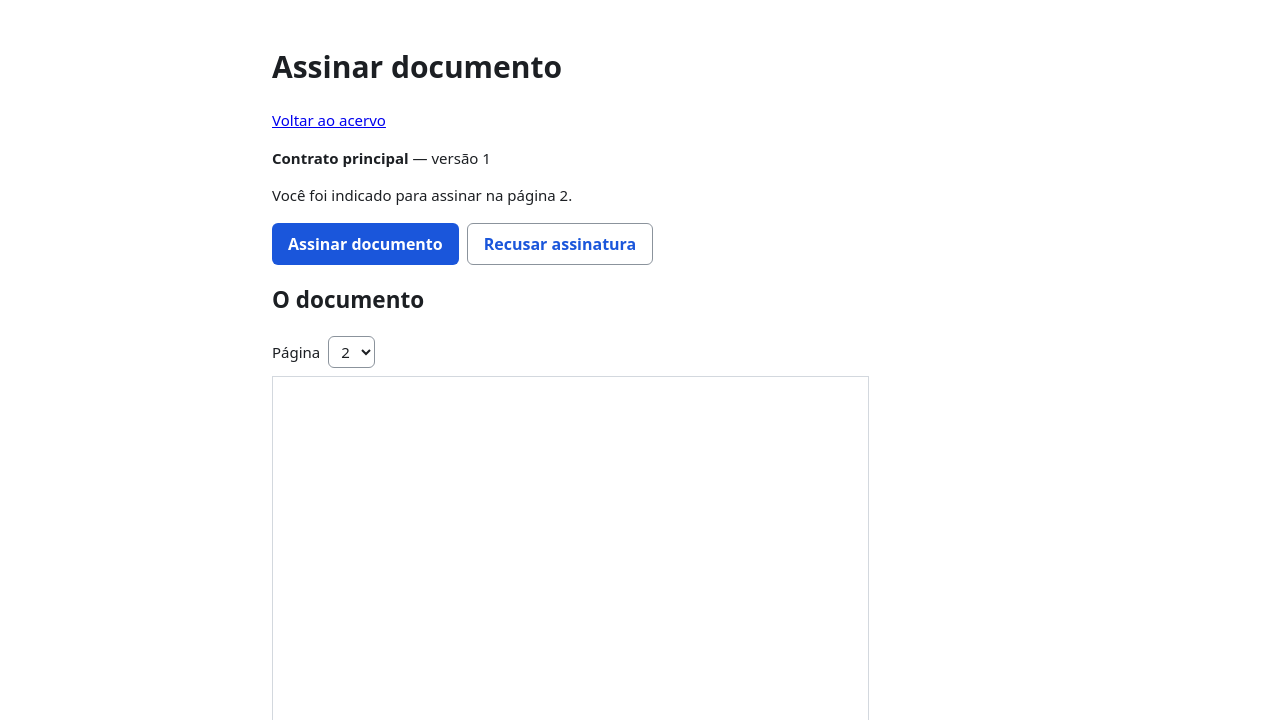
Test: assinar › com a senha errada mantem a pendencia e mostra erro acionavel
Click the button "Assinar documento": click(365, 244) [272,223,459,265]
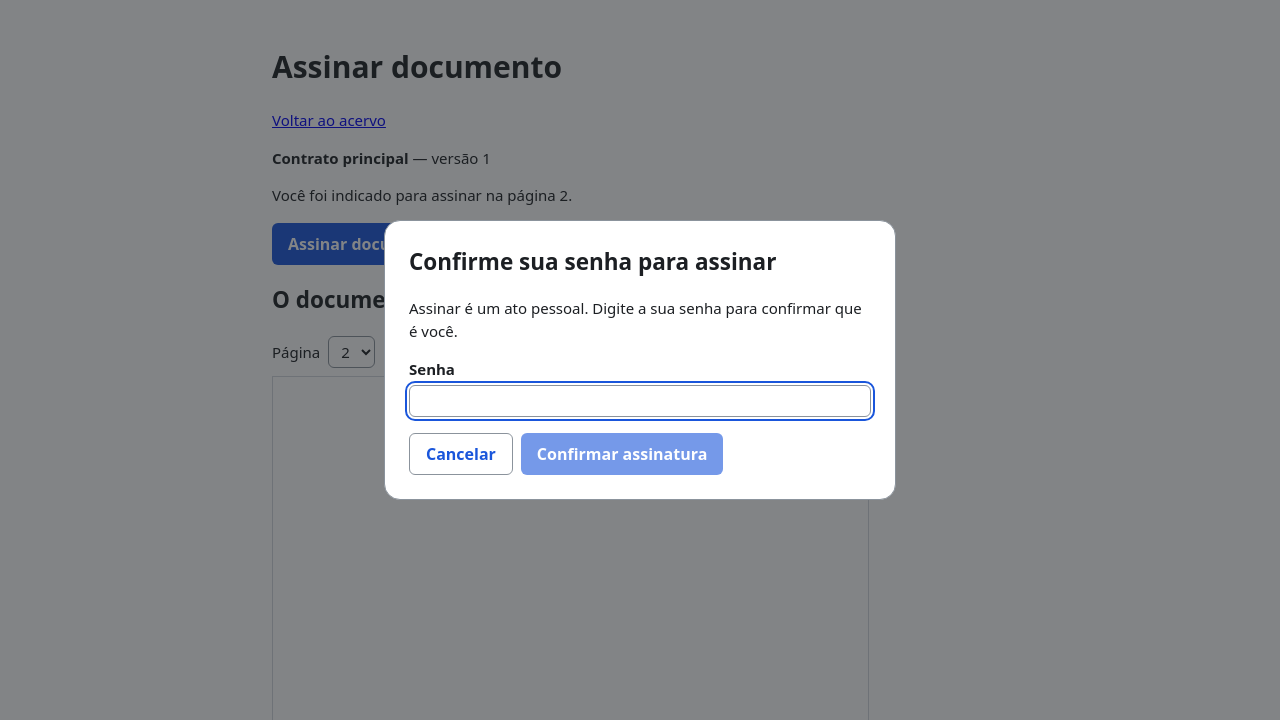
In the password field labelled "Senha": (640, 401) [409,385,871,417], type "errada"
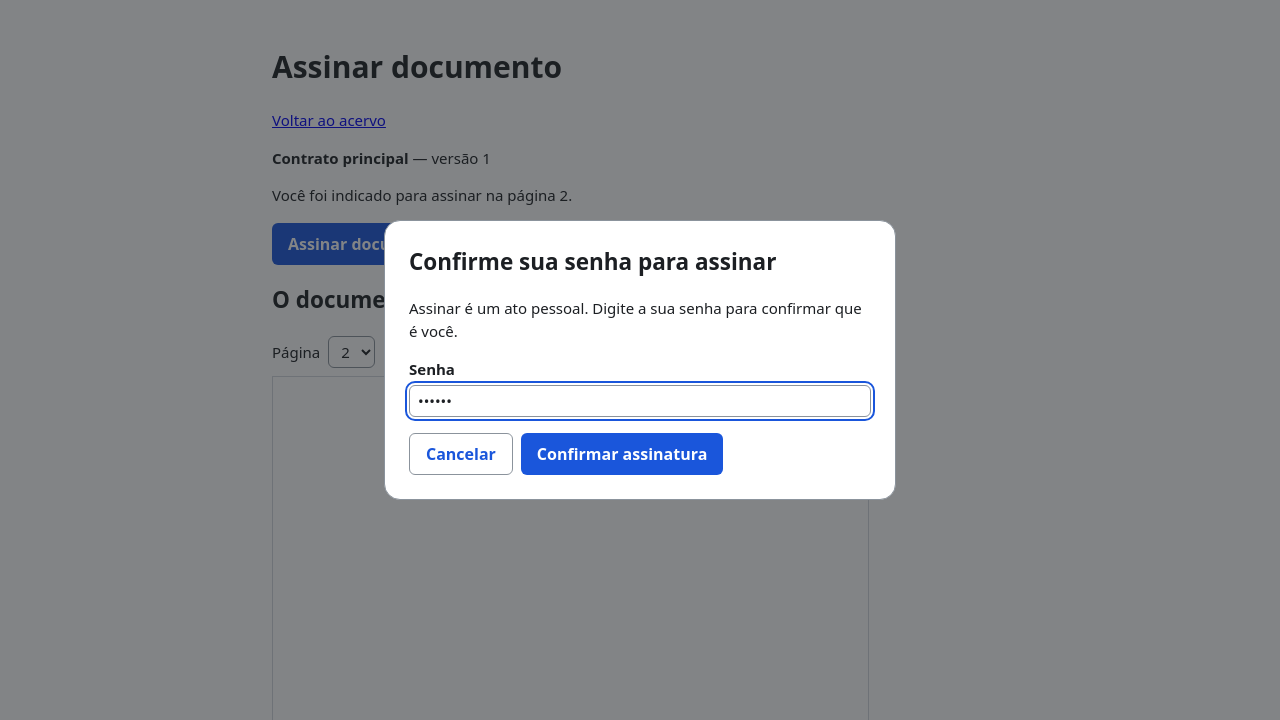
Click the button "Confirmar assinatura": click(622, 454) [521,433,723,475]
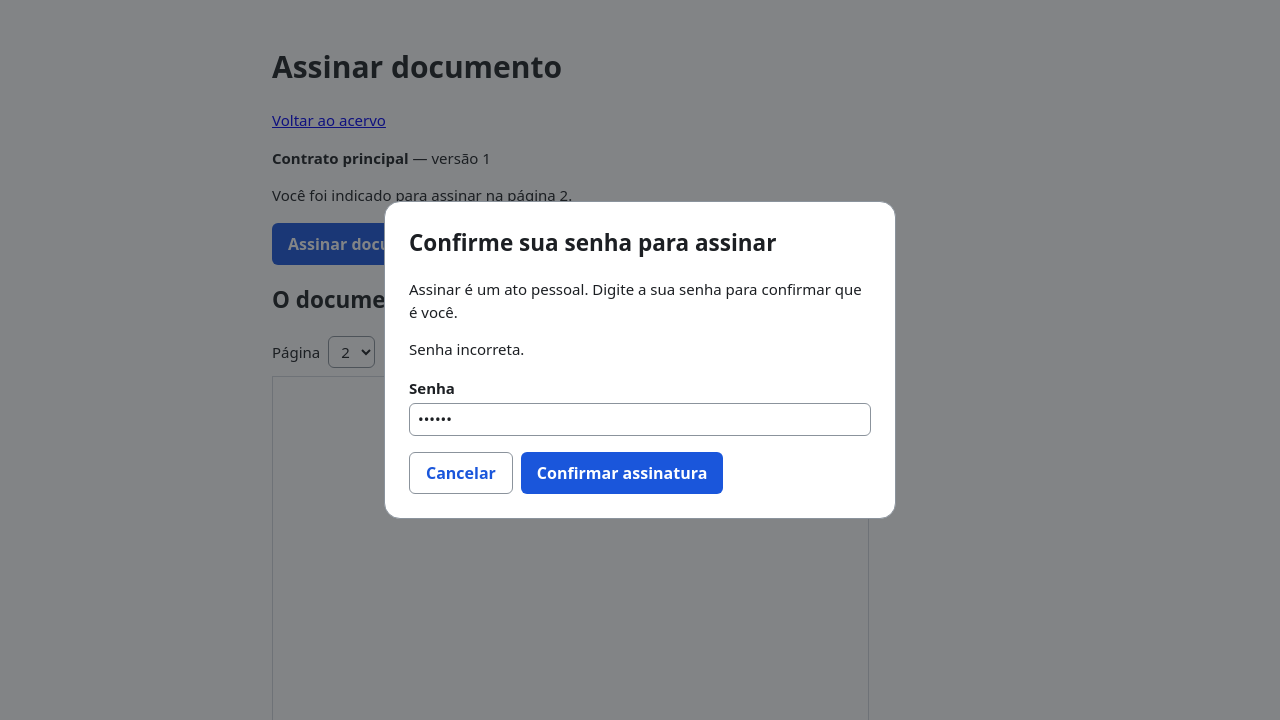
Check: the dialog is shown, box [384,201,896,519]
Check: the button "Confirmar assinatura" is enabled, box [521,452,723,494]
Check: the message reads "Senha incorreta.", box [409,340,524,360]
